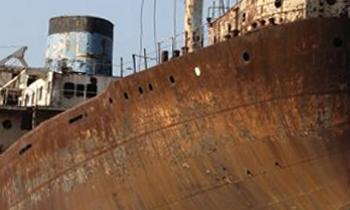rust: (156, 62, 350, 209), (2, 152, 158, 210), (173, 19, 346, 61), (21, 108, 157, 152), (111, 74, 185, 107)
